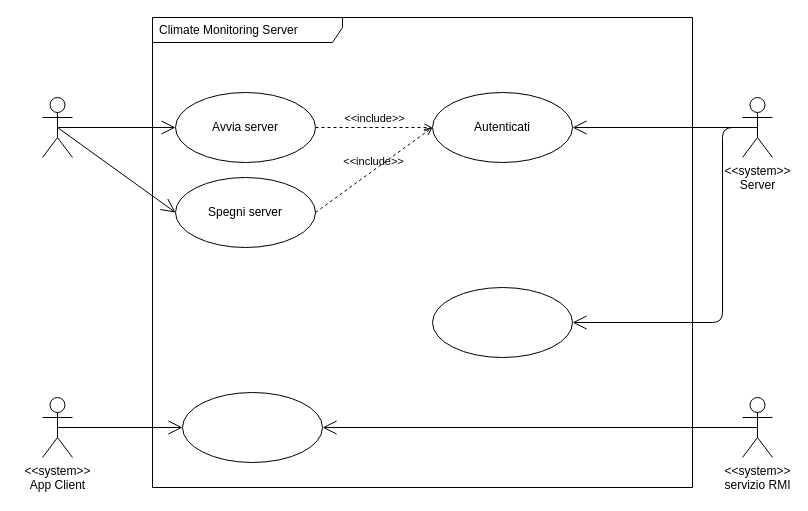
Image size: 808x511. Some labels were removed from this diagram. The box of each missing label's shape, as (x1, y1, x2, y2) in pixels:
Amministratore: (42, 96, 72, 158)
Effettua richiesta di connessione: (182, 392, 322, 462)
Inizializza e configura database: (432, 286, 572, 358)
